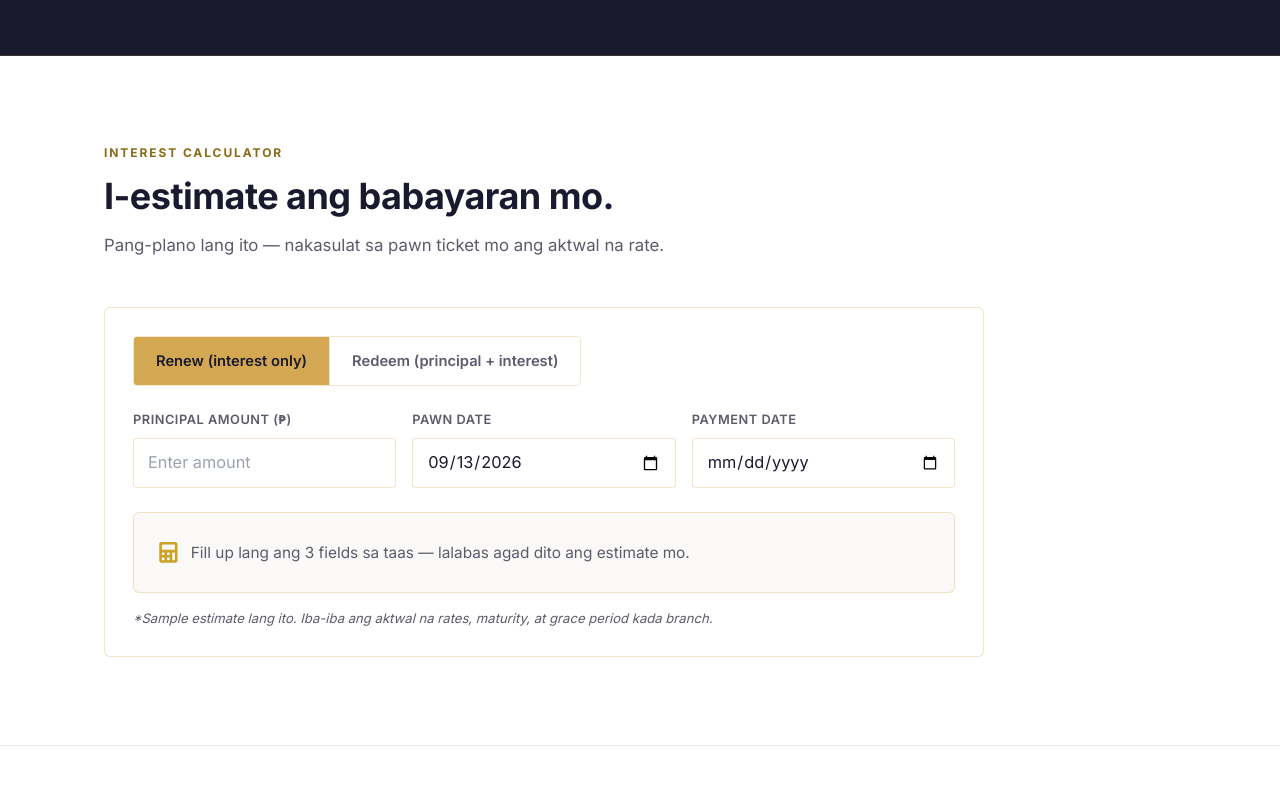
redeem mode shows principal + interest
(page scrolled)
Type "5000" into the number field labelled "Principal amount (₱)" at (265,463), box [133,438,396,488]
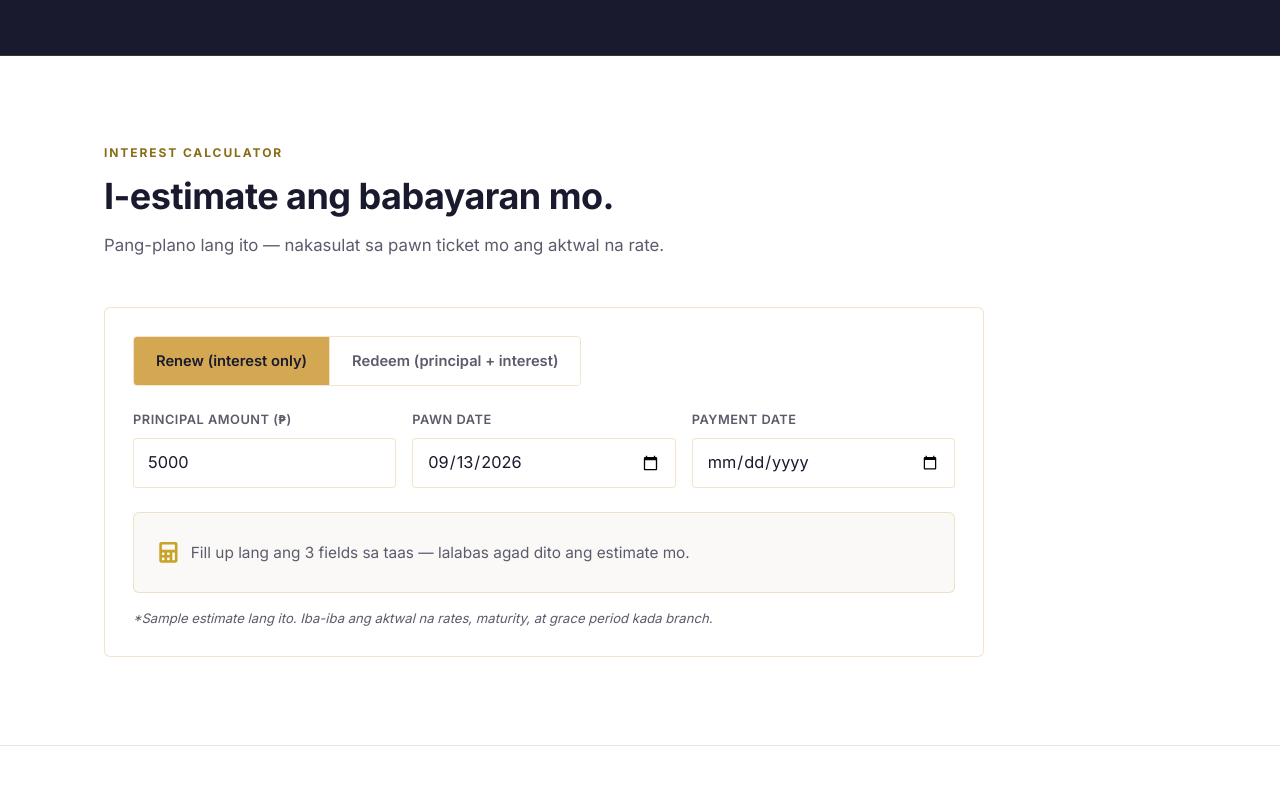
Type "2026-01-01" into the date field labelled "Pawn date" at (544,463), box [412,438,676,488]
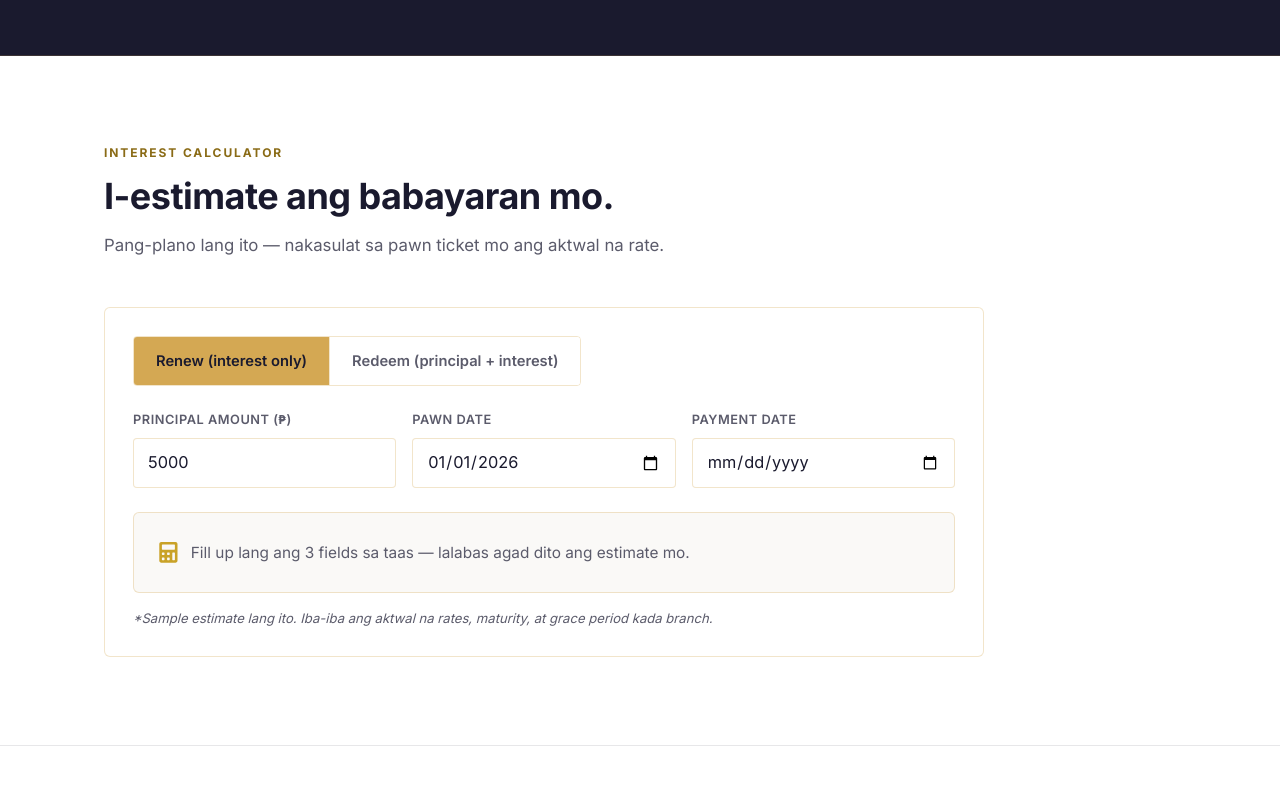
Type "2026-01-11" into the date field labelled "Payment date" at (823,463), box [692,438,955,488]
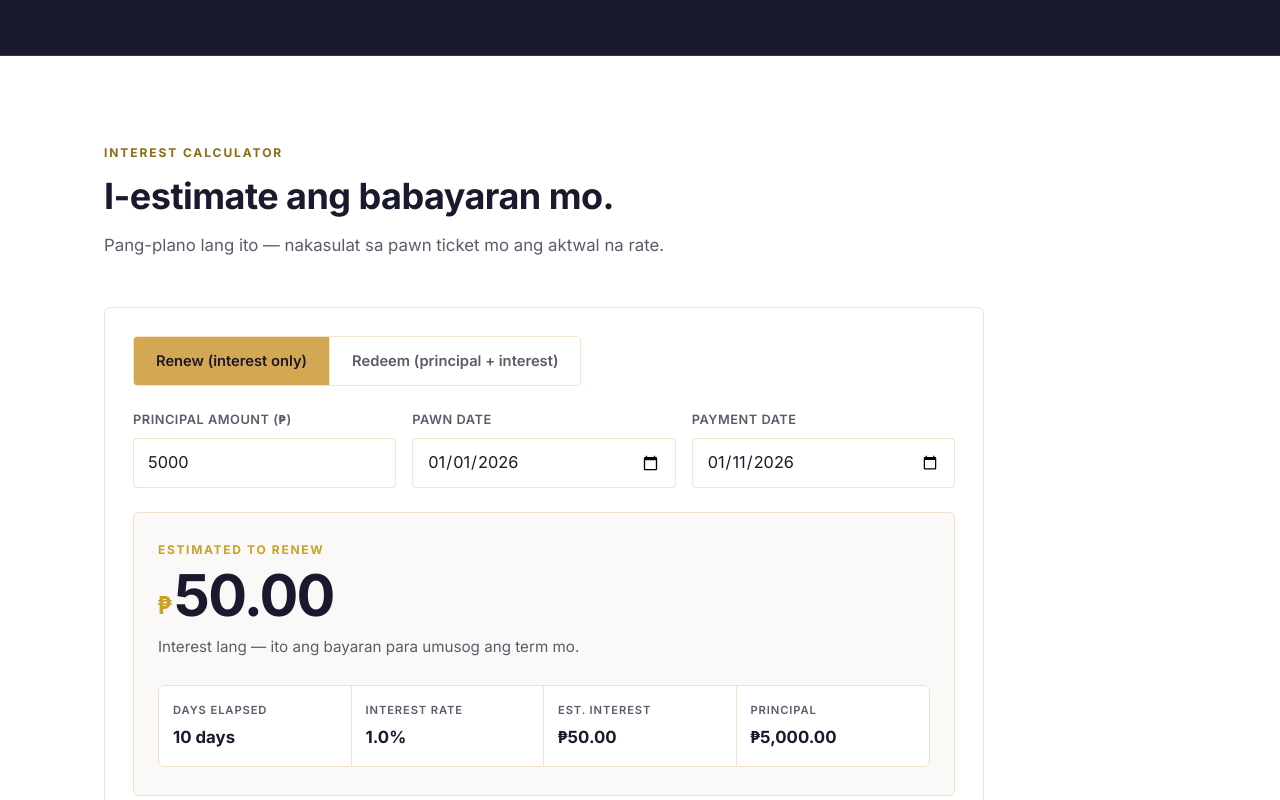
Click the tab "Redeem (principal + interest)" at (455,362), box [329,338,580,386]
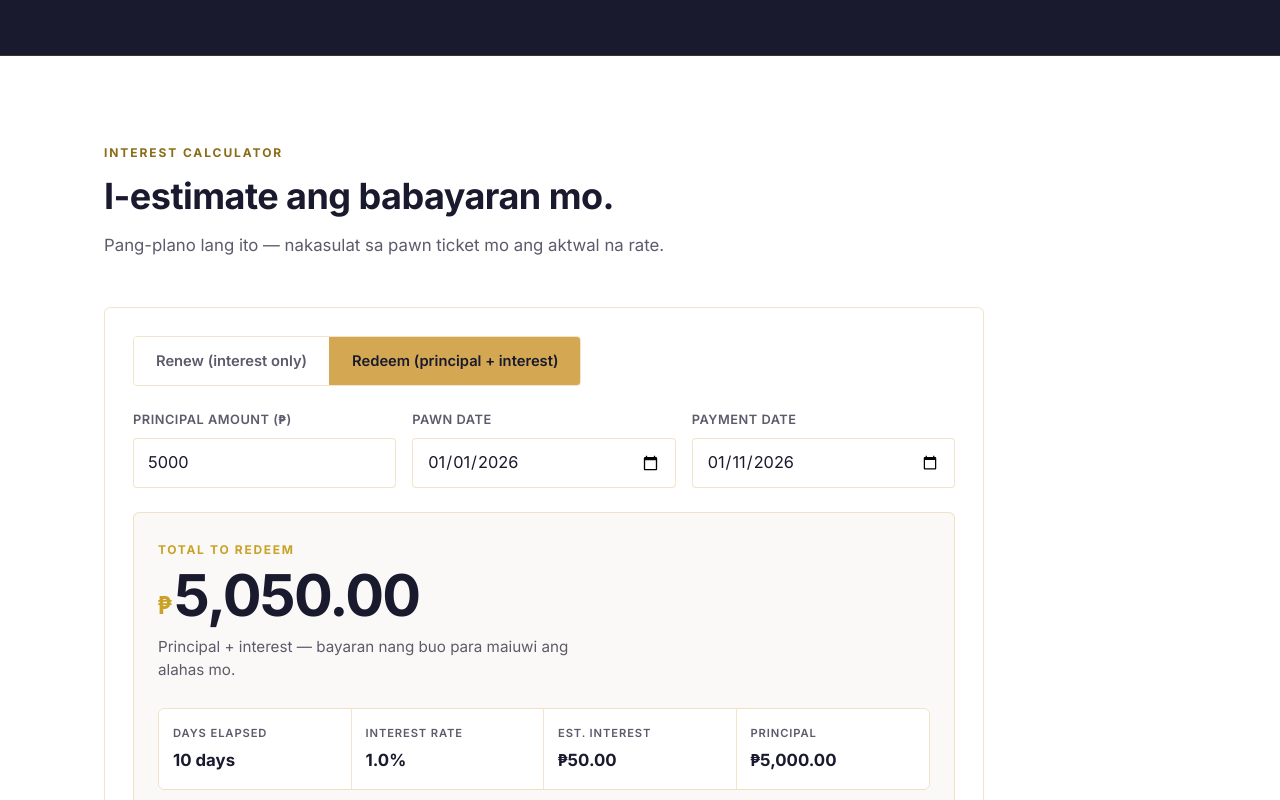
Result: the text "Total to redeem" is shown at [158,542,294,557]
Result: the text "5,050.00" is shown at [174,560,419,630]
